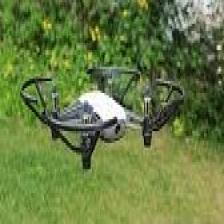drone: (22, 71, 183, 152)
